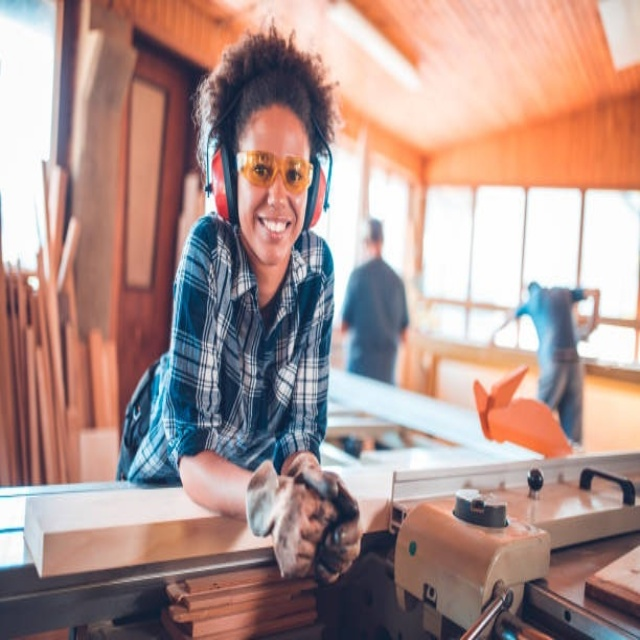Gafas: (234, 150, 315, 192)
Guantes: (247, 449, 368, 587)
Sin_mascara: (250, 205, 297, 249)
